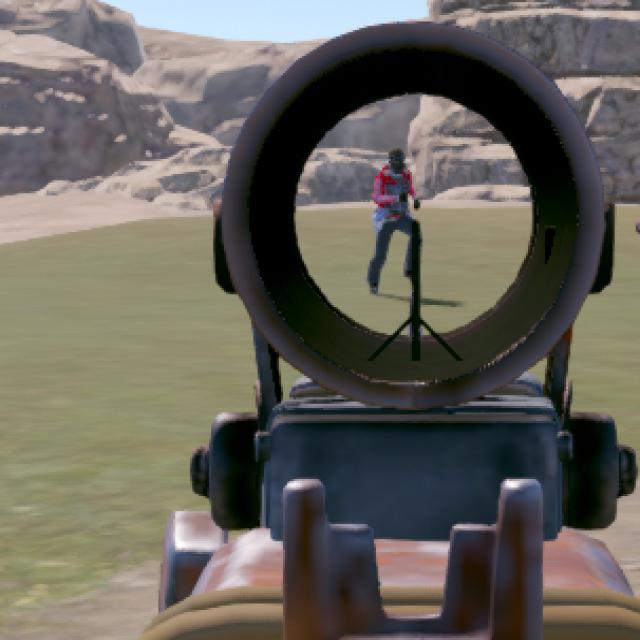Player: (366, 151, 414, 292)
